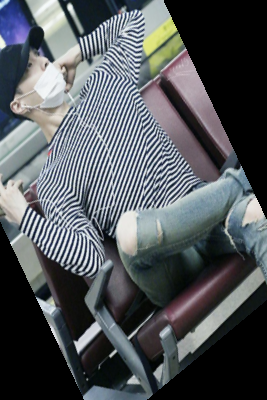mask_weared_incorrect: (1, 16, 73, 157)
